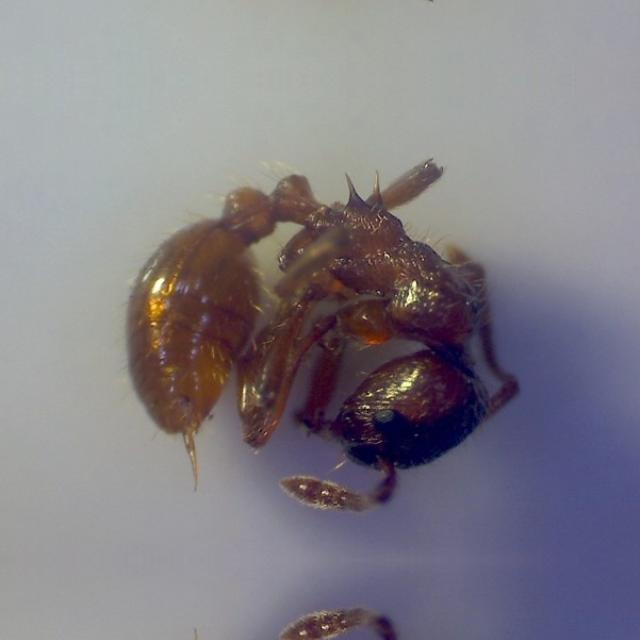Temnothorax: (128, 140, 536, 520)
